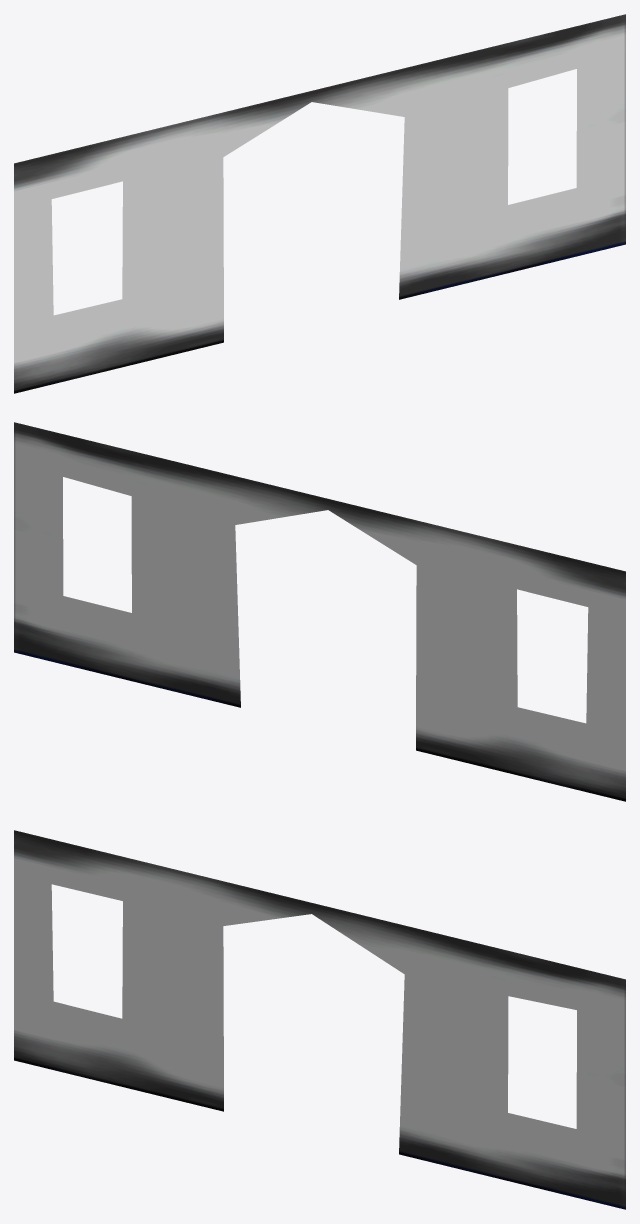
Rendered from W_AI2l_fOf_446.glb.
3 renders of one model, top to bottom at view 1: azimuth 30°, elevation 25°; view 2: azimuth 150°, elevation 25°; view 3: azimuth 330°, elevation 25°, orthographic.
Visible parts, largest first — view 1: polySurfaceShape770; view 2: polySurfaceShape770; view 3: polySurfaceShape770.
Part boxes in pixels (x1=…): polySurfaceShape770: x1=14, y1=14, x2=625, y2=393; polySurfaceShape770: x1=14, y1=422, x2=625, y2=801; polySurfaceShape770: x1=14, y1=830, x2=625, y2=1209.
Bounding box in the file's own units: 0.9692 × 0.3486 × 1.52e-08.
1 material, 1 textured.
